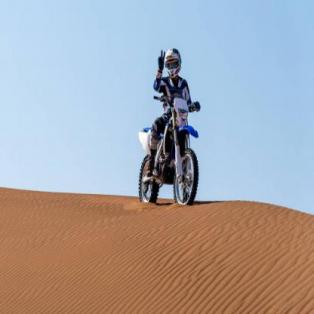Motocicleta: (133, 98, 204, 218)
